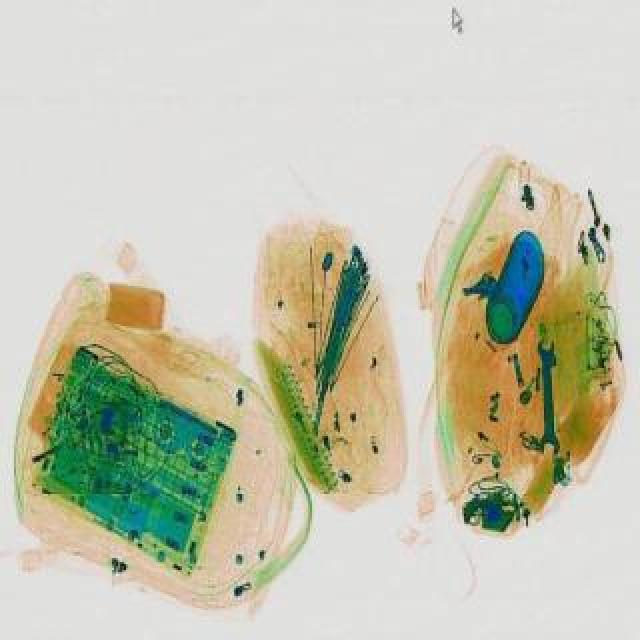scissors: (536, 336, 560, 454)
